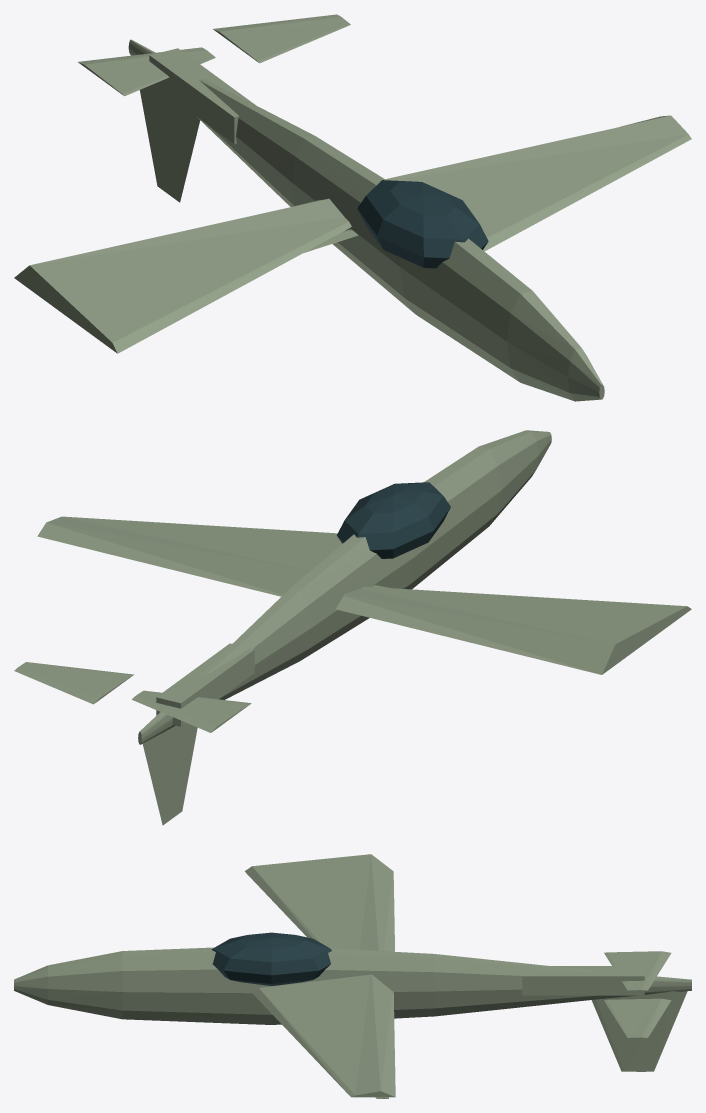
Rendered from tornado.glb.
The picture shows the model from 3 angles, top to bottom: view 1: azimuth 30°, elevation 25°; view 2: azimuth 150°, elevation 25°; view 3: azimuth 270°, elevation 25°; orthographic projection. The views are drawn at different scales.
Visible parts, largest first — view 1: Fuselage, Wing_L, Wing_R, Cockpit, Rudder, TailBoom, Elevator_R, Elevator_L; view 2: Fuselage, Wing_L, Wing_R, Cockpit, Rudder, TailBoom, Elevator_R, Elevator_L; view 3: Fuselage, Wing_R, Wing_L, Cockpit, Rudder, TailBoom, Elevator_R, Elevator_L.
Boxes of the visible parts, x1,y1,x2,y2 form: Fuselage: [128, 39, 604, 401]; Wing_L: [14, 198, 351, 353]; Wing_R: [385, 115, 691, 251]; Cockpit: [357, 180, 488, 268]; Rudder: [140, 84, 200, 202]; TailBoom: [149, 48, 254, 144]; Elevator_R: [213, 14, 350, 63]; Elevator_L: [78, 47, 215, 96]; Fuselage: [138, 430, 551, 744]; Wing_L: [336, 586, 691, 674]; Wing_R: [37, 516, 342, 596]; Cockpit: [337, 482, 450, 558]; Rudder: [142, 723, 197, 825]; TailBoom: [156, 643, 254, 726]; Elevator_R: [14, 662, 133, 704]; Elevator_L: [132, 690, 251, 732]; Fuselage: [14, 947, 691, 1024]; Wing_R: [252, 974, 395, 1097]; Wing_L: [245, 854, 394, 951]; Cockpit: [212, 932, 331, 985]; Rudder: [591, 991, 687, 1071]; TailBoom: [522, 966, 644, 995]; Elevator_R: [604, 998, 671, 1037]; Elevator_L: [604, 951, 671, 990].
Size of the model in its own units: 13.34 by 3.66 by 16.8.
